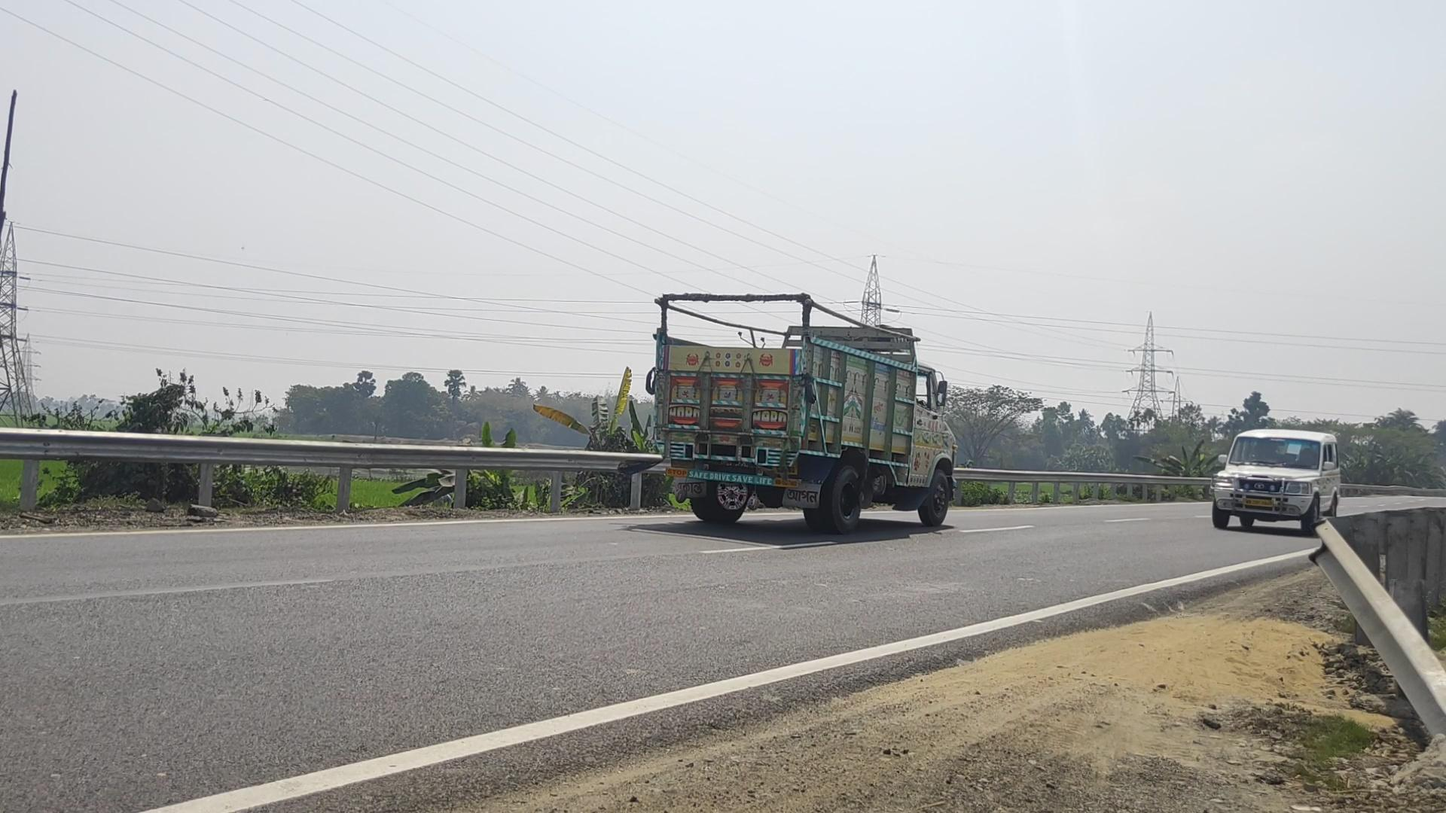car: (1209, 429, 1341, 536)
truck: (651, 291, 957, 534)
